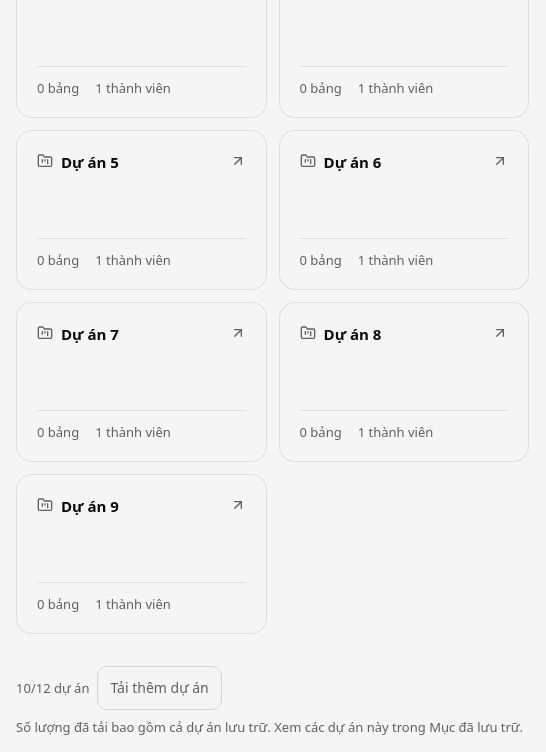
Scenario: lists active projects through all pages and opens the project's real route
(page scrolled)
Click the button "Tải thêm dự án". click: (160, 688)
box: x1=98 y1=666 x2=222 y2=710
(page scrolled)
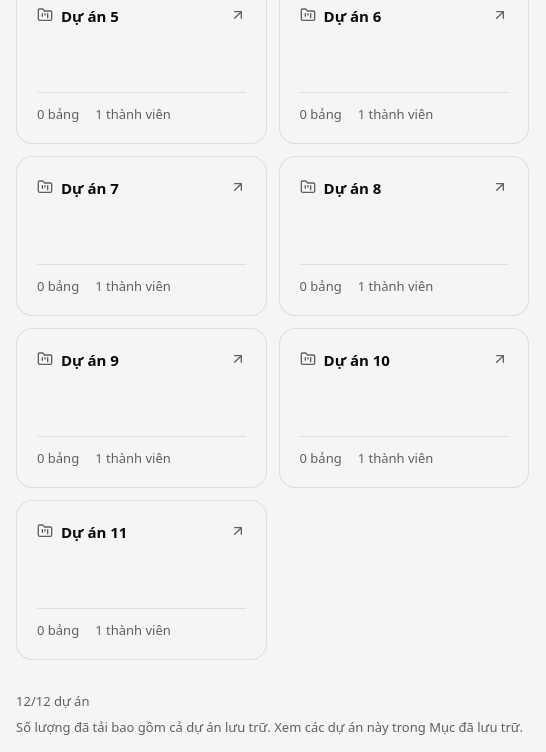
Click the link "Dự án 11 0 bảng 1 thành viên". click: (141, 580)
box: x1=16 y1=500 x2=266 y2=660
(page scrolled)
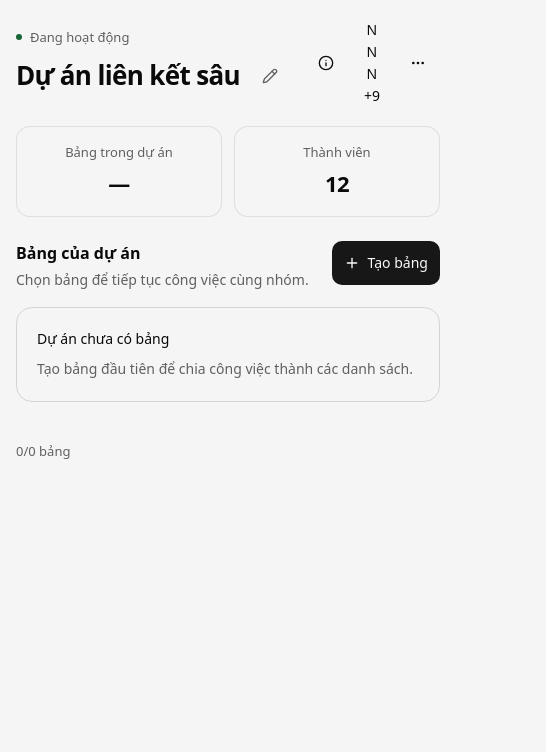
Expected: the heading "Dự án liên kết sâu" is shown, x1=16 y1=59 x2=240 y2=93
